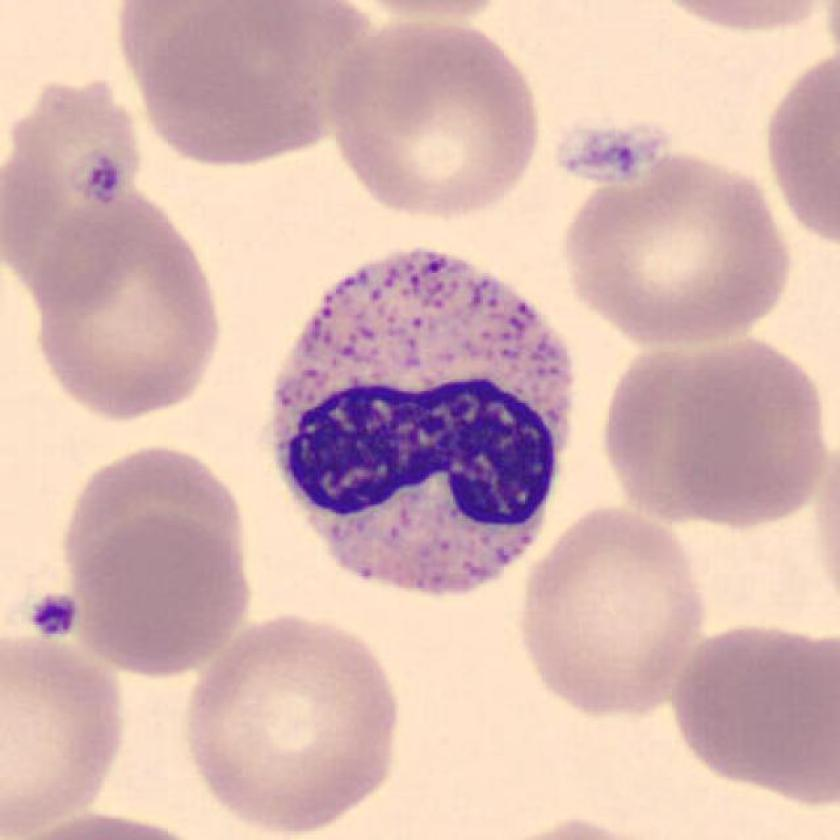neutrophil: (276, 252, 574, 600)
